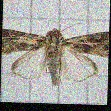Spodoptera litura: (2, 19, 109, 89)
